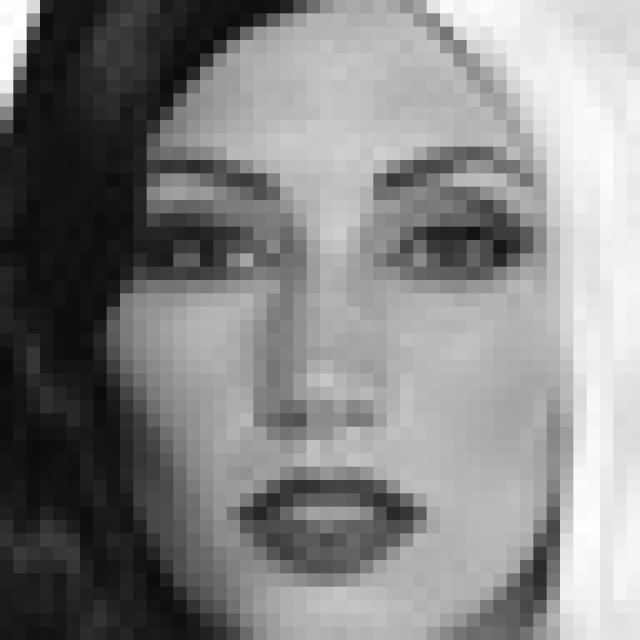neutral: (144, 139, 546, 588)
